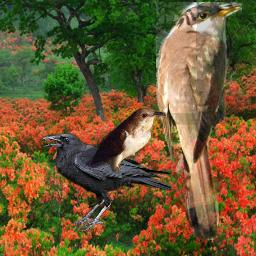Crow: (42, 133, 174, 231)
Cuckoo: (156, 2, 242, 240), (77, 107, 166, 172)
